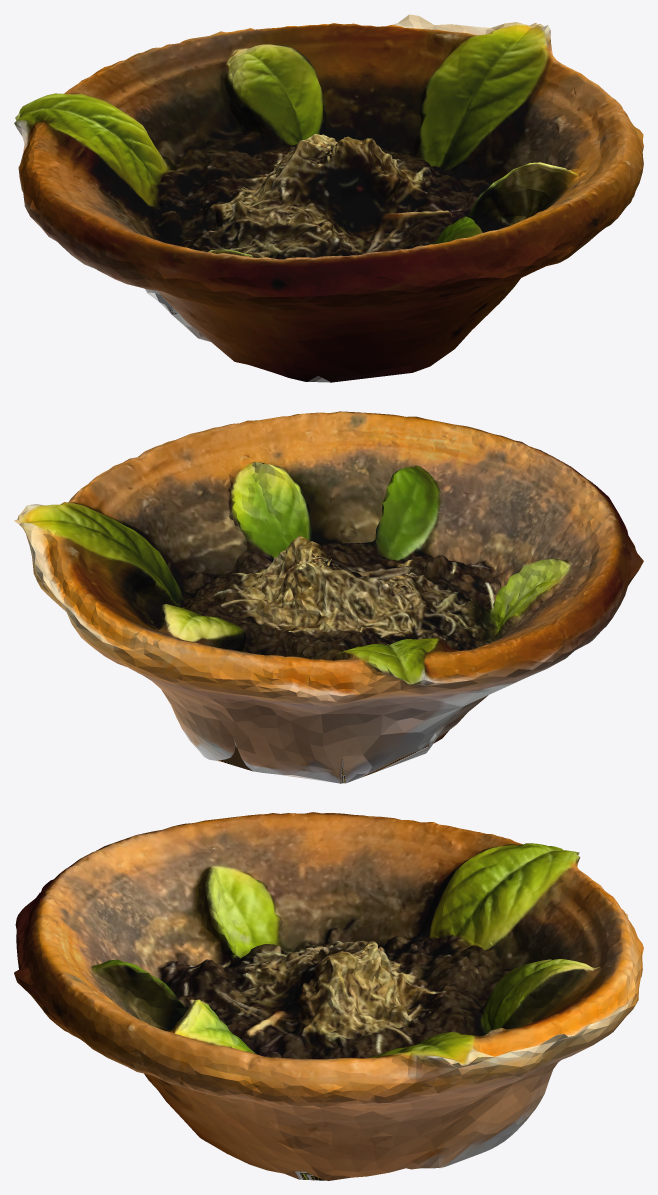
Rendered from alguidar.gltf.
3 views of the same model, one above another, from view 1: azimuth 30°, elevation 25°; view 2: azimuth 150°, elevation 25°; view 3: azimuth 270°, elevation 25° (orthographic). The views are drawn at different scales.
Parts seen in each view (by area): view 1: model_Alguidar 1_20250202_162809809.001; view 2: model_Alguidar 1_20250202_162809809.001; view 3: model_Alguidar 1_20250202_162809809.001.
Part boxes in pixels (x1,y1,x2,y2): model_Alguidar 1_20250202_162809809.001: (14, 14, 643, 382); model_Alguidar 1_20250202_162809809.001: (14, 411, 643, 783); model_Alguidar 1_20250202_162809809.001: (14, 812, 643, 1180).
Bounding box in the file's own units: 1.18 × 0.4162 × 1.17.
Materials: 1 (1 with a texture image).
